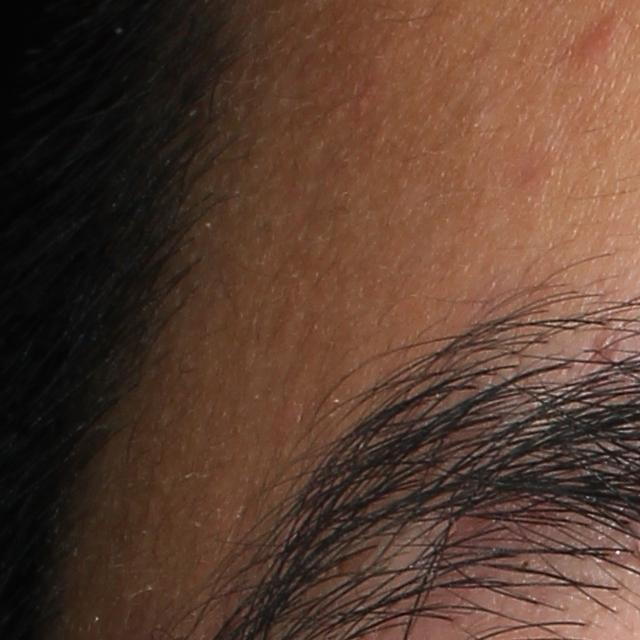papule: (575, 11, 625, 65)
